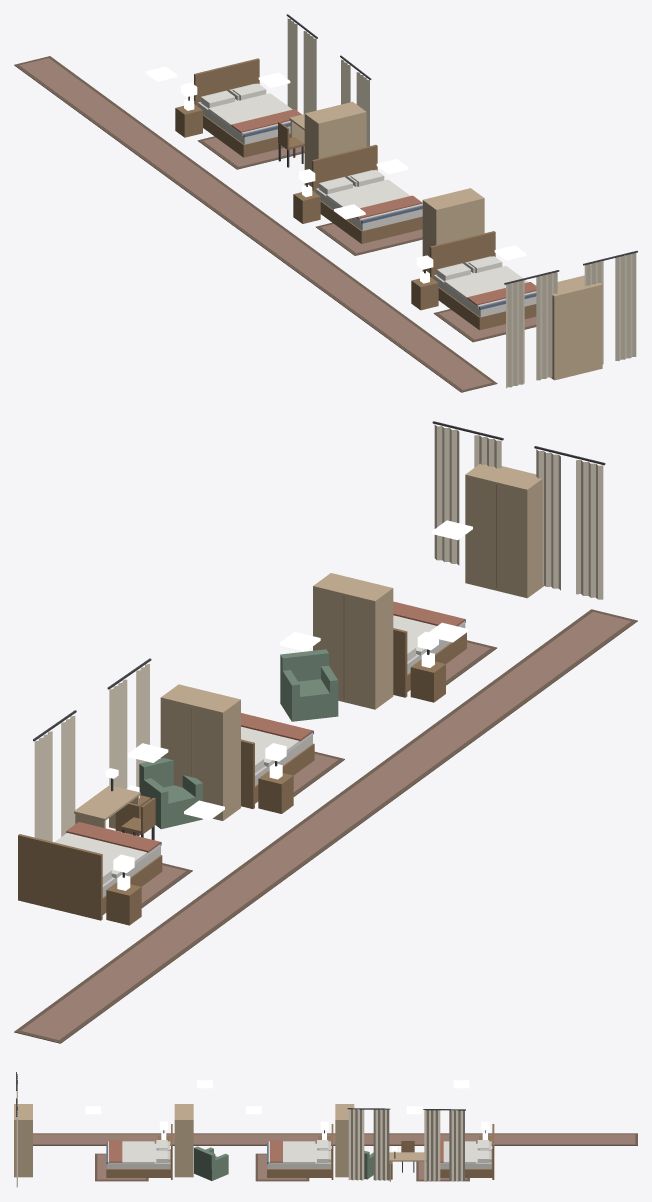
Rendered from fine-s2.glb.
3 renders of one model, top to bottom at view 1: azimuth 30°, elevation 25°; view 2: azimuth 150°, elevation 25°; view 3: azimuth 270°, elevation 25°, orthographic. The views are drawn at different scales.
Visible parts, largest first — view 1: soft-s2, dresser.005, bed-frame.004, bed-frame.005, bed-frame.003, dresser.003, dresser.004, nightstand.004, nightstand.003, nightstand.005, cafe-chair.001; view 2: soft-s2, dresser.005, dresser.004, dresser.003, bed-frame.003, lounge-chair.003, lounge-chair.002, bed-frame.004, bed-frame.005, writing-desk.001, nightstand.003, nightstand.005 (+1 smaller); view 3: soft-s2, dresser.004, dresser.005, bed-frame.004, bed-frame.005, dresser.003, lounge-chair.003, bed-frame.003, writing-desk.001, lounge-chair.002, cafe-chair.001.
Part boxes in pixels (box(x1,y1,x2,y2)): soft-s2: box(14, 14, 637, 392); dresser.005: box(551, 275, 602, 380); bed-frame.004: box(312, 144, 422, 243); bed-frame.005: box(429, 231, 536, 330); bed-frame.003: box(194, 58, 290, 157); dresser.003: box(304, 101, 366, 186); dresser.004: box(422, 188, 484, 272); nightstand.004: box(293, 184, 320, 223); nightstand.003: box(175, 98, 202, 137); nightstand.005: box(411, 271, 438, 310); cafe-chair.001: box(278, 121, 304, 167); soft-s2: box(14, 421, 637, 1043); dresser.005: box(465, 463, 544, 598); dresser.004: box(313, 573, 393, 709); dresser.003: box(160, 684, 240, 820); bed-frame.003: box(18, 834, 162, 920); lounge-chair.003: box(280, 649, 338, 721); lounge-chair.002: box(139, 758, 202, 829); bed-frame.004: box(241, 730, 314, 808); bed-frame.005: box(393, 619, 466, 697); writing-desk.001: box(74, 768, 140, 828); nightstand.003: box(106, 874, 141, 925); nightstand.005: box(410, 652, 445, 702); soft-s2: box(16, 1072, 637, 1187); dresser.004: box(174, 1104, 193, 1177); dresser.005: box(14, 1104, 32, 1177); bed-frame.004: box(267, 1124, 333, 1179); bed-frame.005: box(106, 1124, 172, 1179); dresser.003: box(335, 1104, 354, 1177); lounge-chair.003: box(194, 1146, 228, 1180); bed-frame.003: box(440, 1124, 494, 1179); writing-desk.001: box(389, 1146, 426, 1181); lounge-chair.002: box(364, 1150, 373, 1179); cafe-chair.001: box(401, 1140, 414, 1172).
Size of the model in its own units: 4.17 by 2.56 by 19.74.
